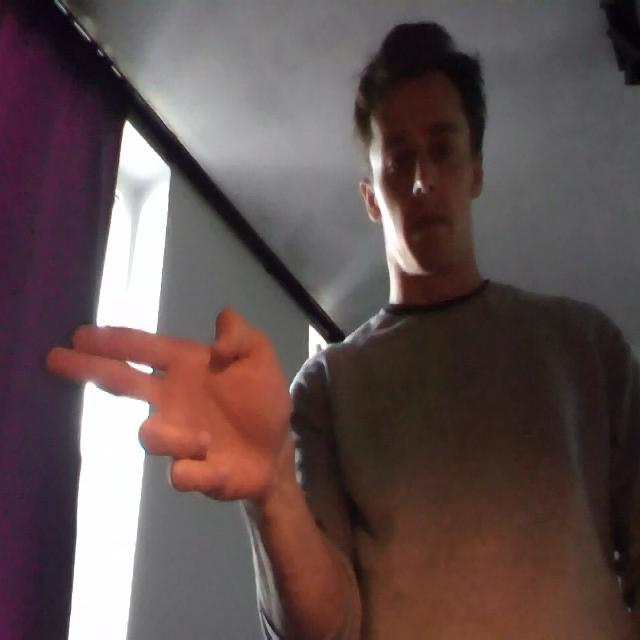left: (42, 292, 299, 506)
